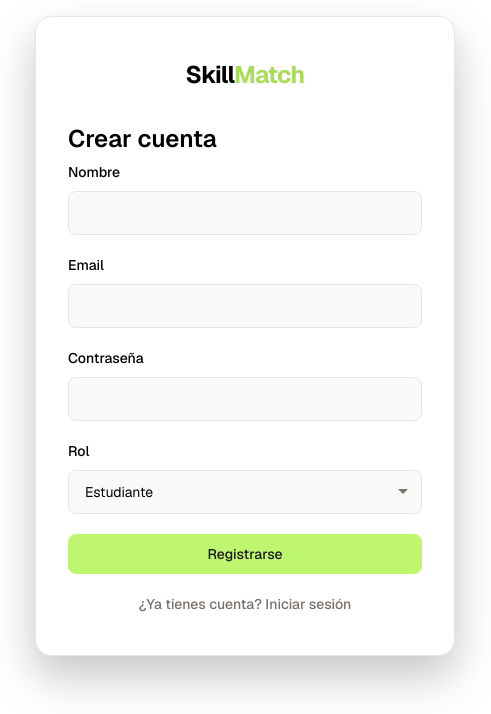
errores de API › deshabilita el botón mientras se envía la petición
The image size is (491, 714).
In the field labelled "Nombre": point(245, 213) [68, 191, 422, 235], type "Carlos"
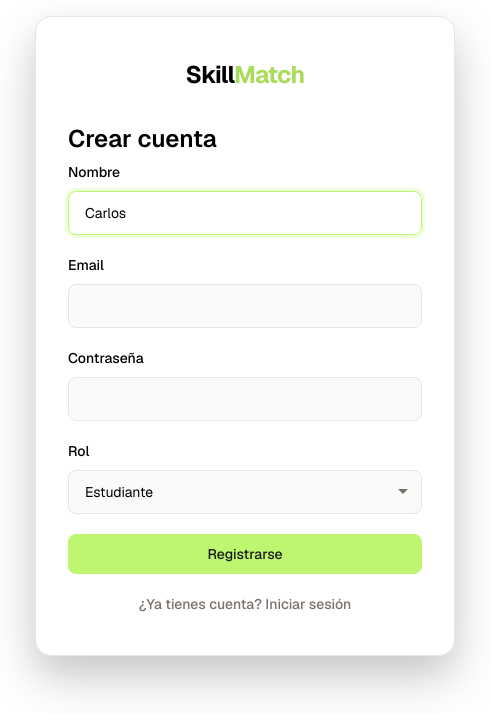
In the field labelled "Email": point(245, 306) [68, 284, 422, 328], type "carlos@test.com"
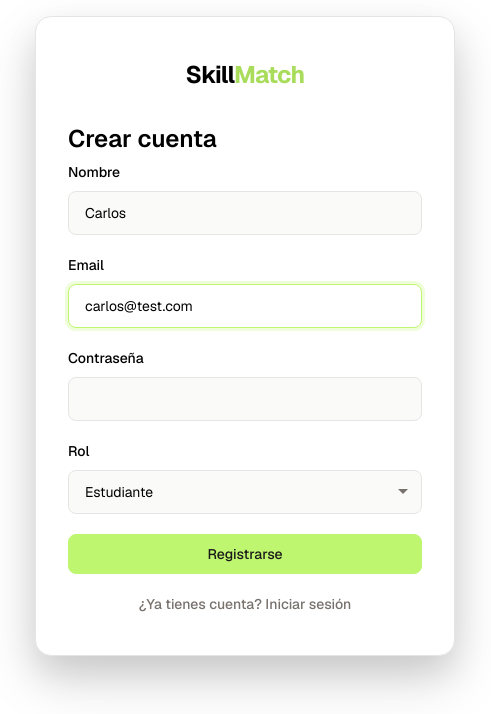
In the password field labelled "Contraseña": point(245, 399) [68, 377, 422, 421], type "123456"
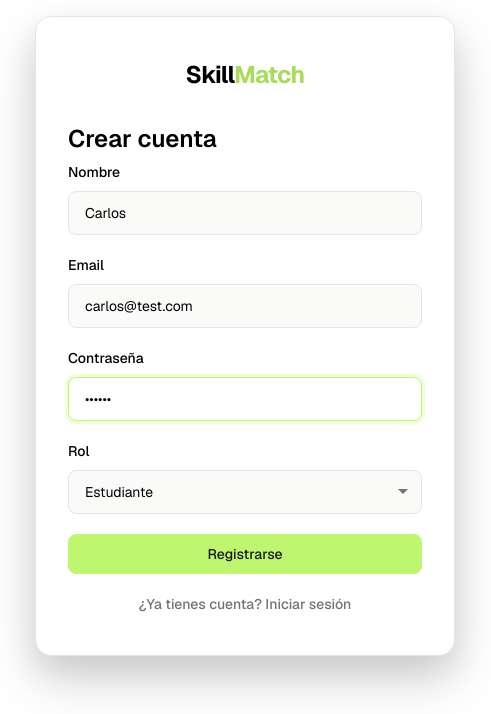
Select "Estudiante" in the dropdown labelled "Rol": point(245, 492) [68, 470, 422, 514]
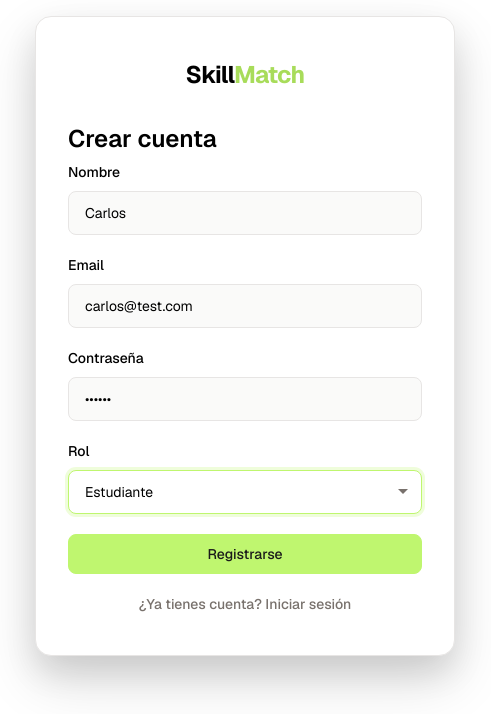
Click the button "Registrarse": point(245, 554) [68, 534, 422, 574]
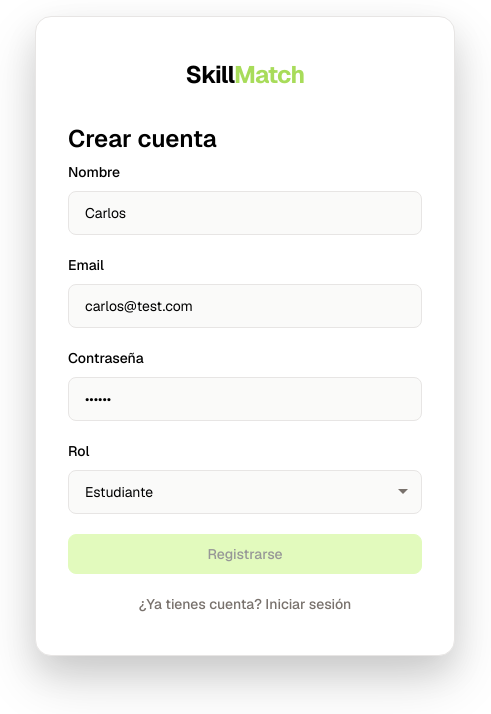
Now the button "Registrarse" is disabled, box [68, 534, 422, 574]
